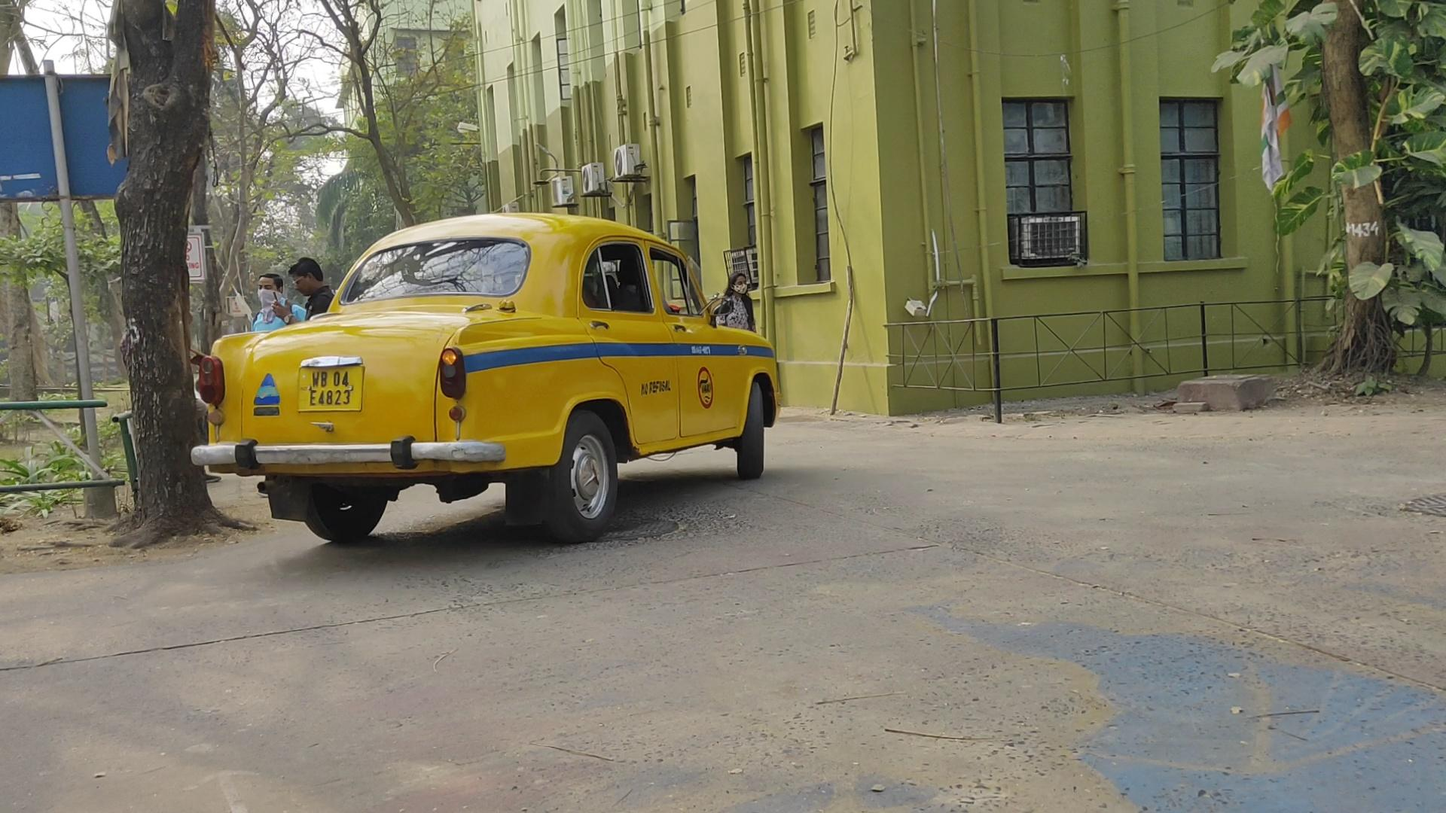car: (191, 211, 779, 547)
